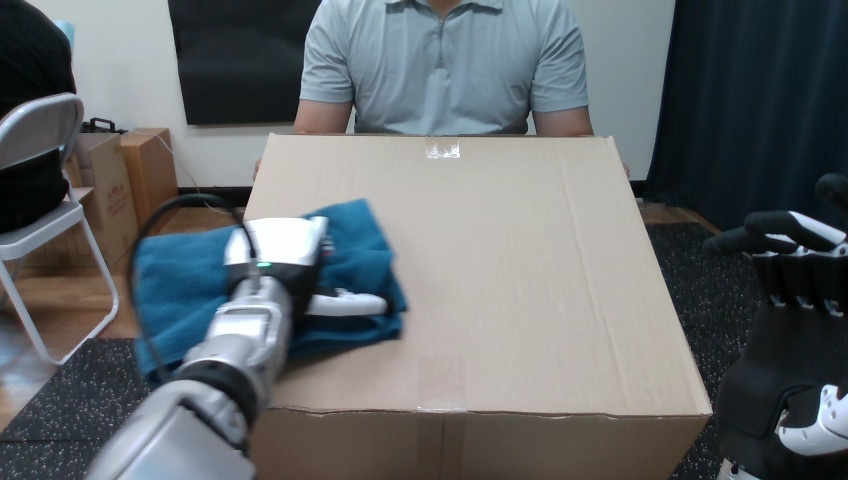left robot hand: (87, 216, 388, 479), (703, 211, 847, 478)
